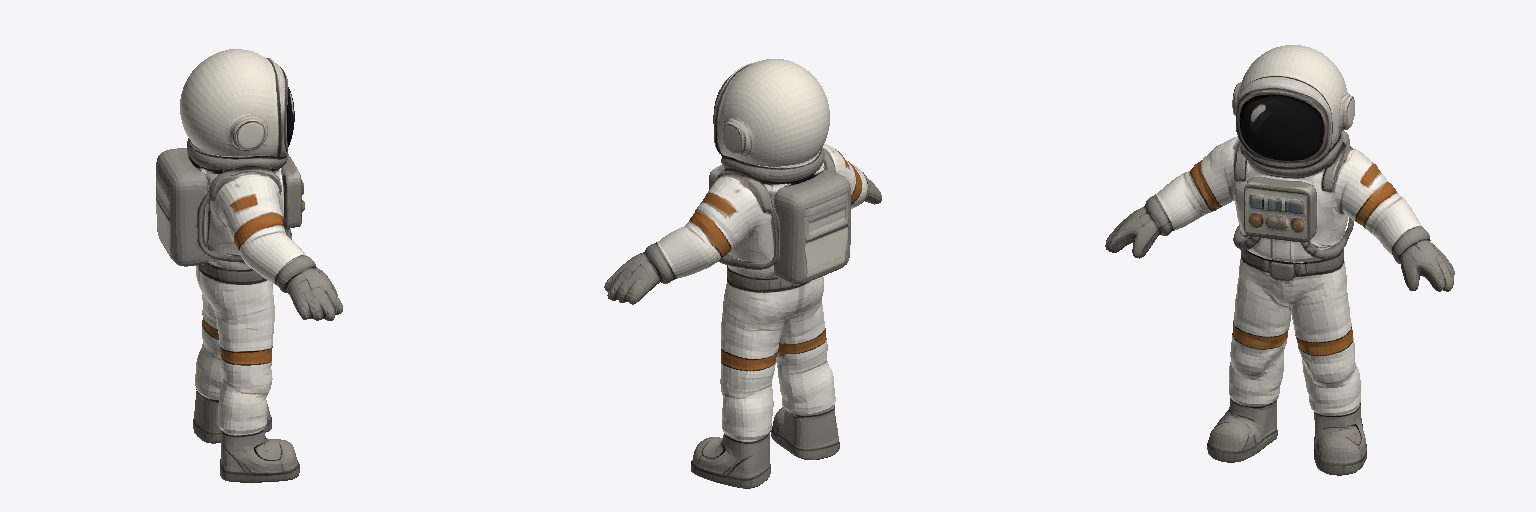
3 views of the same model, side by side, from view 1: azimuth 30°, elevation 25°; view 2: azimuth 150°, elevation 25°; view 3: azimuth 270°, elevation 25° (orthographic).
Parts seen in each view (by area): view 1: model; view 2: model; view 3: model.
Part boxes in pixels (x1,y1,x2,y2): model: (156,49,342,482); model: (604,59,881,488); model: (1105,45,1454,475).
Bounding box in the file's own units: 578 × 1332 × 1054.
Materials: 1 (1 with a texture image).